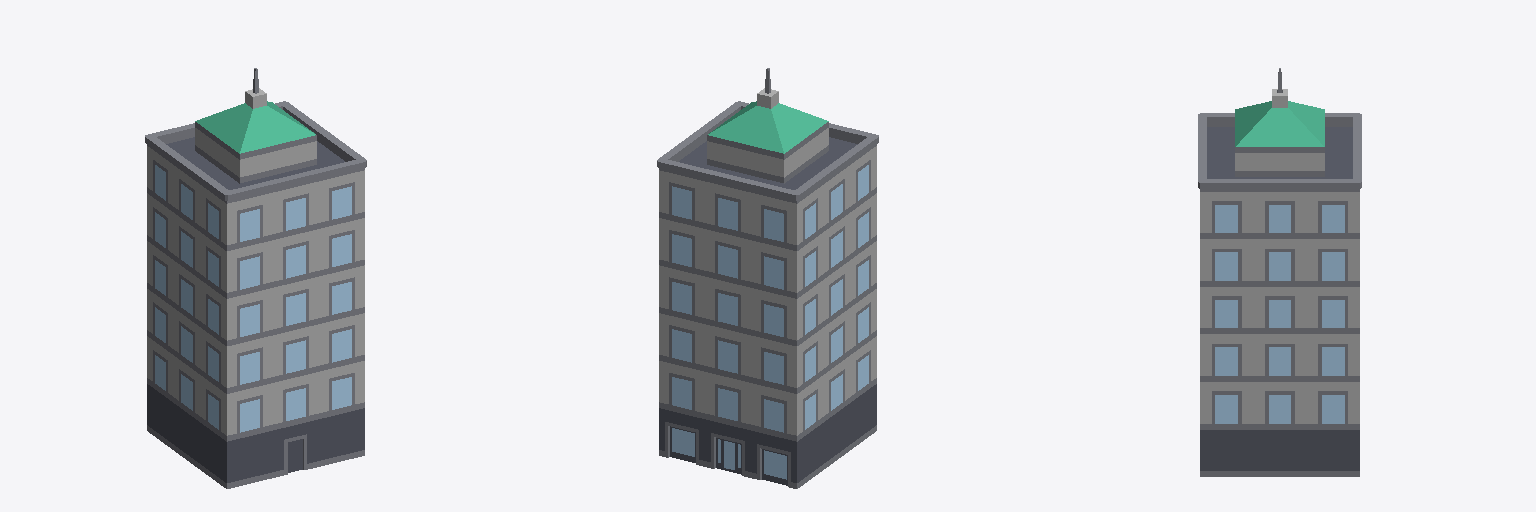
File: insta_residential_concrete_4.obj
The picture shows the model from 3 angles: view 1: azimuth 30°, elevation 25°; view 2: azimuth 150°, elevation 25°; view 3: azimuth 270°, elevation 25°; orthographic projection.
Parts seen in each view (by area): view 1: city_residential_4__defaultMat(Clone), city_residential_4_border(Clone), city_residential_4_door(Clone), city_residential_4_trim(Clone), city_residential_4_window(Clone), city_residential_4_roof(Clone); view 2: city_residential_4__defaultMat(Clone), city_residential_4_border(Clone), city_residential_4_door(Clone), city_residential_4_window(Clone), city_residential_4_trim(Clone), city_residential_4_roof(Clone); view 3: city_residential_4__defaultMat(Clone), city_residential_4_border(Clone), city_residential_4_door(Clone), city_residential_4_trim(Clone), city_residential_4_window(Clone), city_residential_4_roof(Clone).
Boxes of the visible parts, x1,y1,x2,y2 form: city_residential_4__defaultMat(Clone): [147, 88, 364, 435]; city_residential_4_border(Clone): [145, 68, 366, 488]; city_residential_4_door(Clone): [147, 137, 364, 482]; city_residential_4_trim(Clone): [155, 179, 351, 432]; city_residential_4_window(Clone): [155, 165, 351, 417]; city_residential_4_roof(Clone): [195, 101, 315, 153]; city_residential_4__defaultMat(Clone): [659, 88, 876, 435]; city_residential_4_border(Clone): [657, 68, 878, 488]; city_residential_4_door(Clone): [659, 137, 876, 485]; city_residential_4_window(Clone): [672, 165, 868, 479]; city_residential_4_trim(Clone): [672, 179, 868, 432]; city_residential_4_roof(Clone): [708, 101, 828, 153]; city_residential_4__defaultMat(Clone): [1200, 89, 1359, 423]; city_residential_4_border(Clone): [1198, 68, 1361, 476]; city_residential_4_door(Clone): [1200, 127, 1359, 470]; city_residential_4_trim(Clone): [1215, 219, 1344, 423]; city_residential_4_window(Clone): [1215, 205, 1344, 408]; city_residential_4_roof(Clone): [1235, 101, 1324, 146].
Size of the model in its own units: 1 by 2.52 by 1.